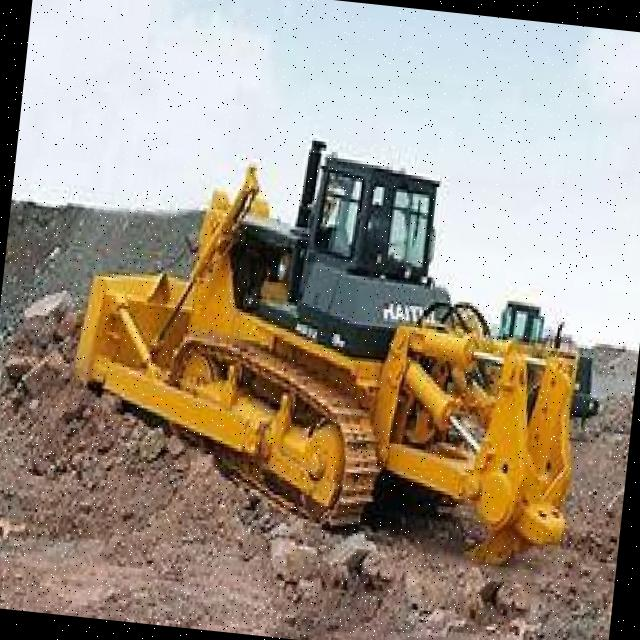Bulldozer: (34, 116, 628, 615)
